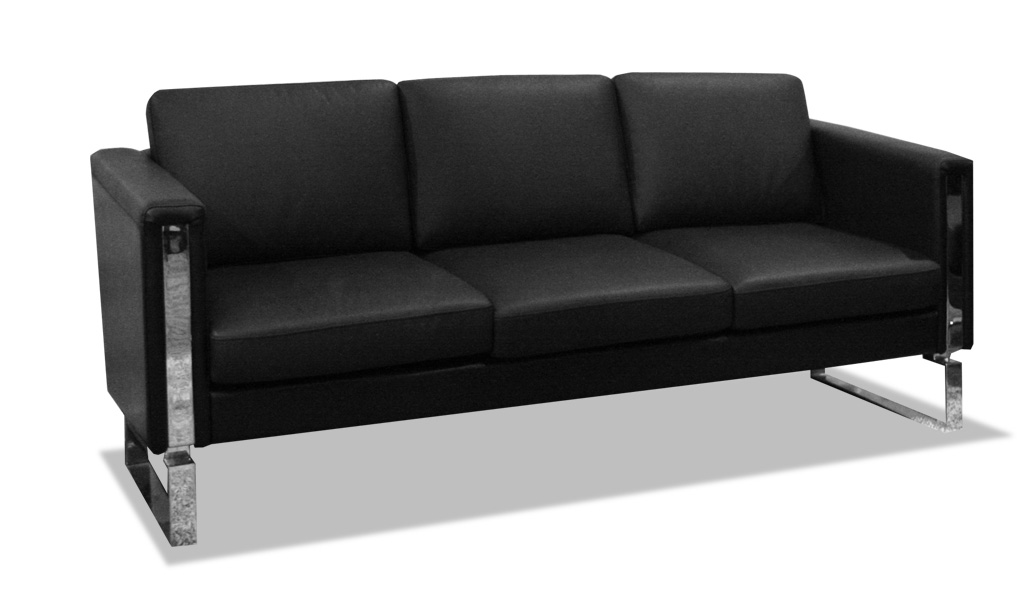chairs: (50, 71, 980, 555)
